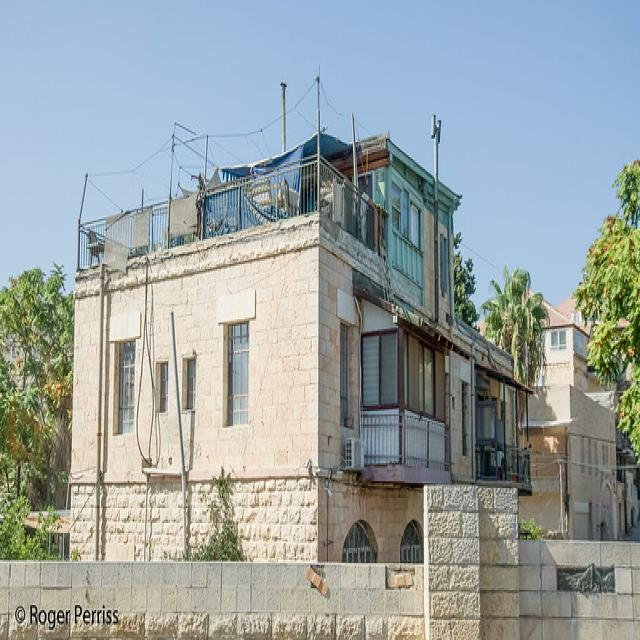Normal_building: (66, 122, 535, 565)
